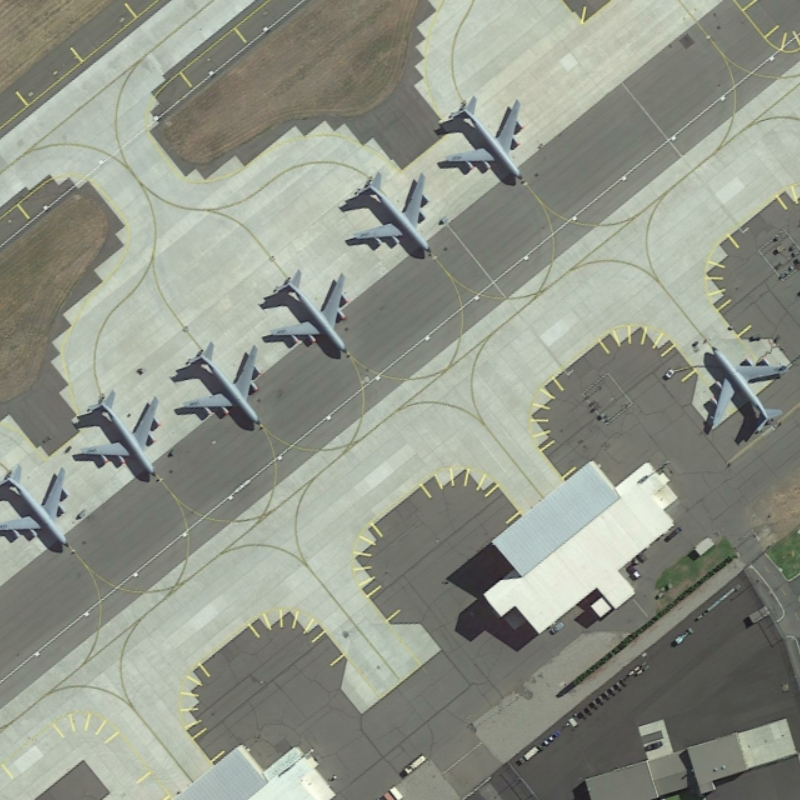A14: (170, 337, 274, 435), (696, 337, 792, 443), (337, 166, 440, 264), (436, 94, 536, 193), (71, 387, 169, 488), (262, 266, 355, 362), (1, 458, 80, 560)
